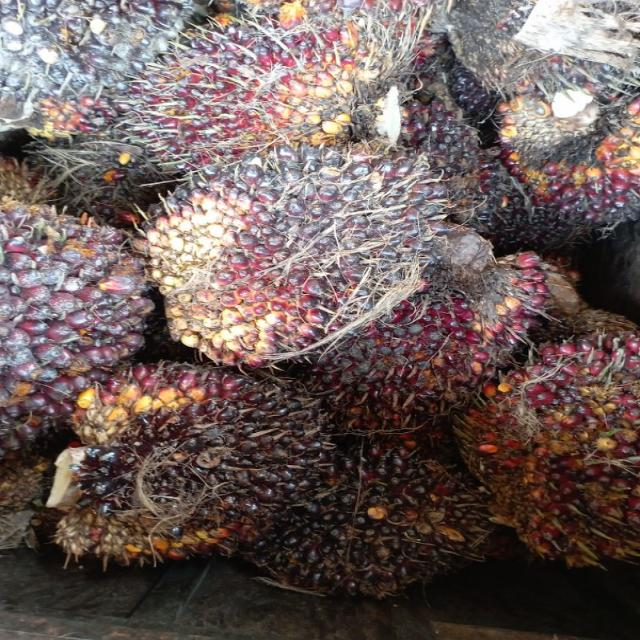fraksi 00: (290, 428, 492, 598)
fraksi 1: (56, 352, 337, 573), (469, 329, 640, 568), (363, 224, 550, 414)
fraksi 4: (145, 133, 457, 360)
